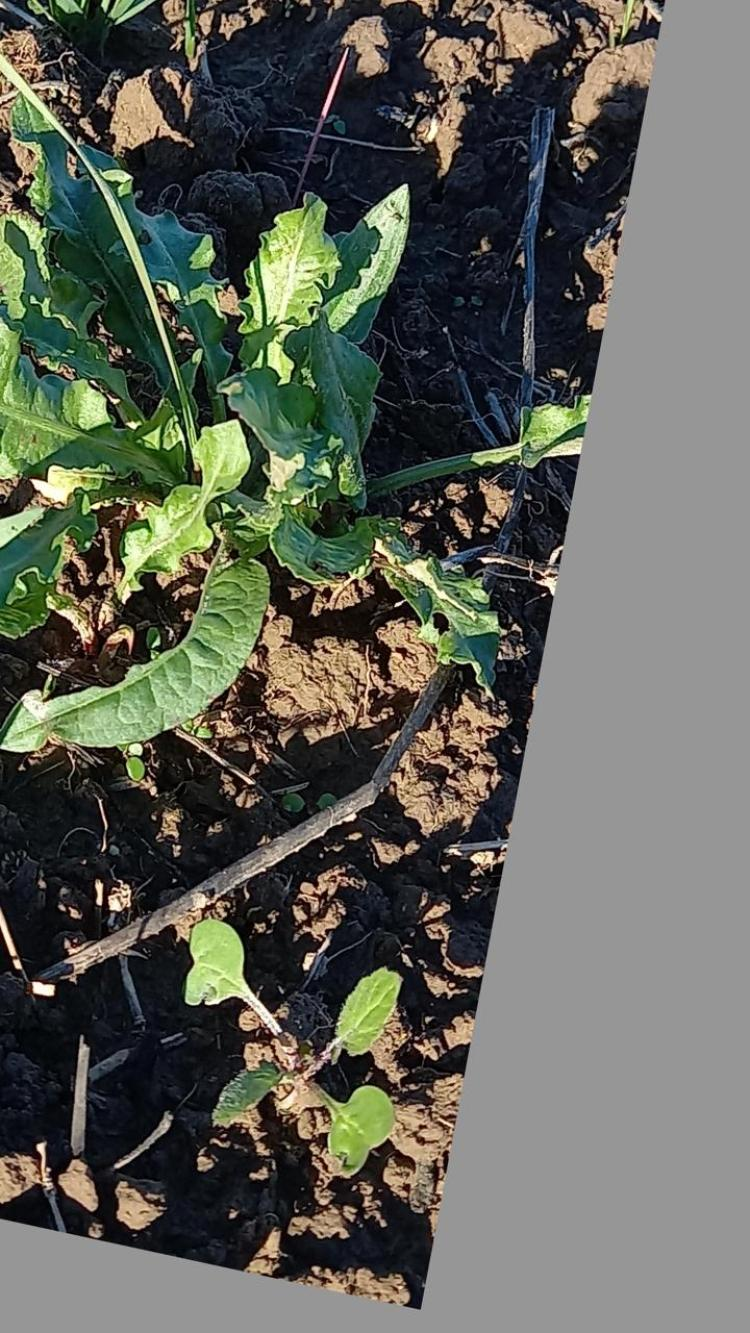zhavel: (0, 81, 594, 764)
